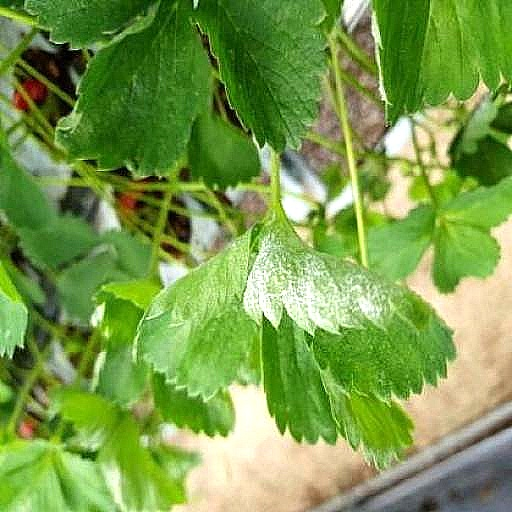Powdery Mildew Leaf: (243, 201, 458, 406), (371, 0, 511, 127)
